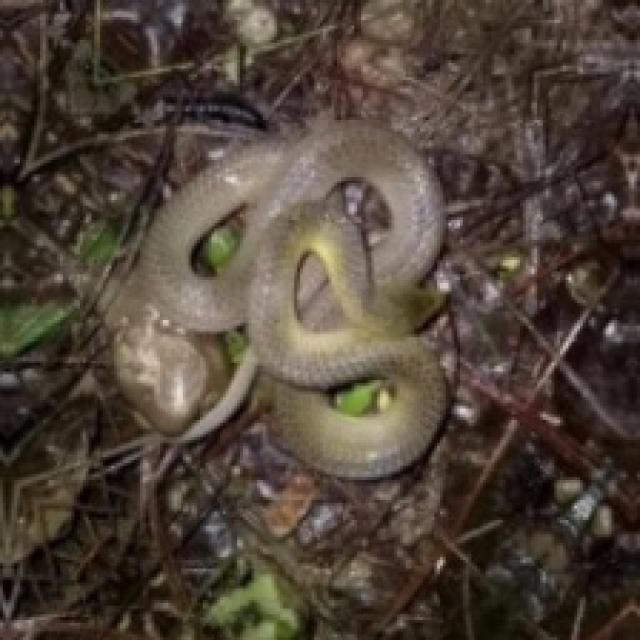gunthers philippine shrub snake: (109, 120, 446, 477)
